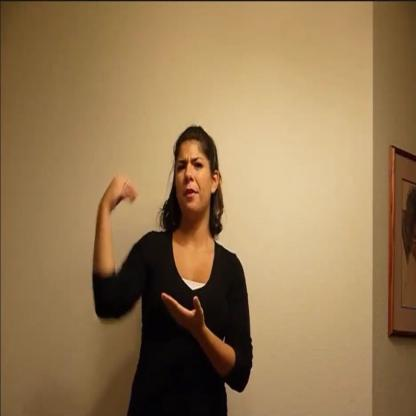Expensive: (97, 172, 206, 334)
